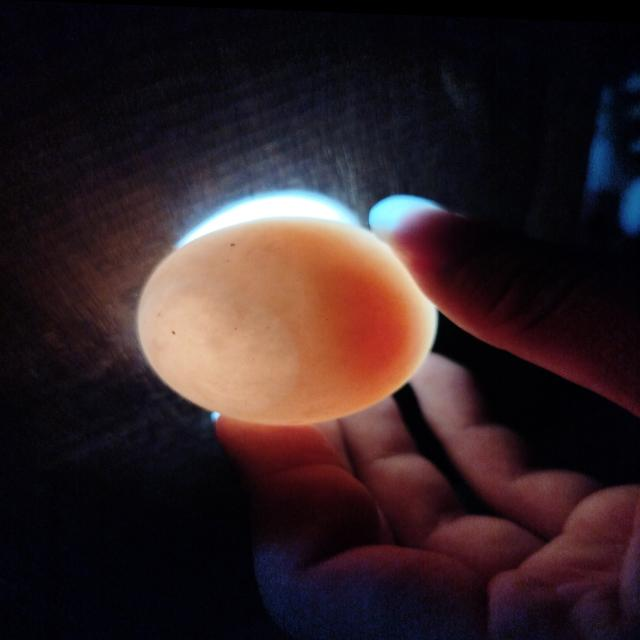Camara de Ar: (135, 271, 299, 412)
Gema Quebrada: (237, 215, 420, 408)
